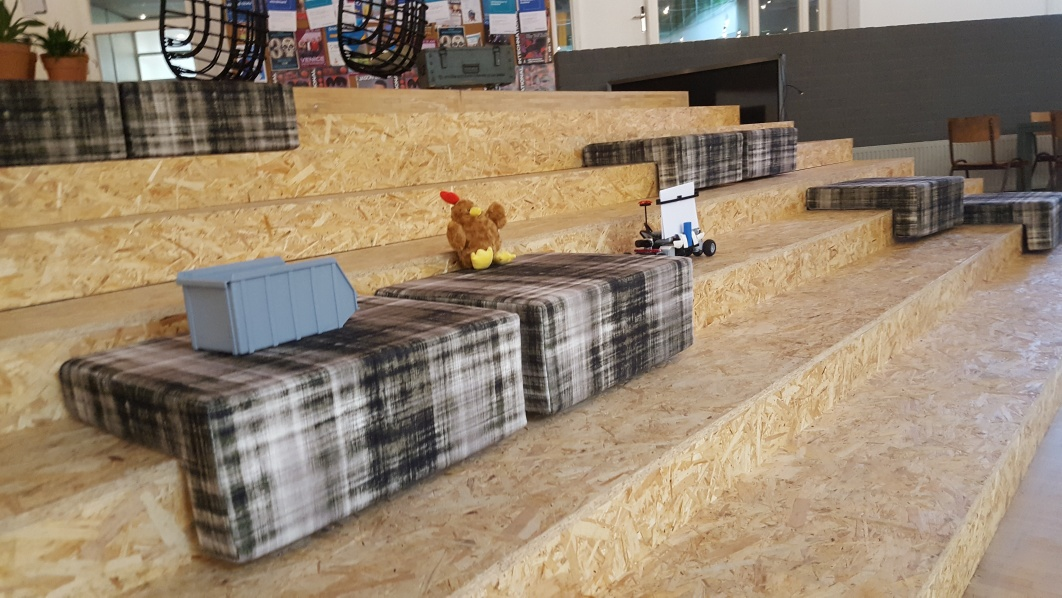beam: (679, 219, 697, 254)
chicken: (442, 186, 516, 271)
tray: (175, 255, 357, 355)
